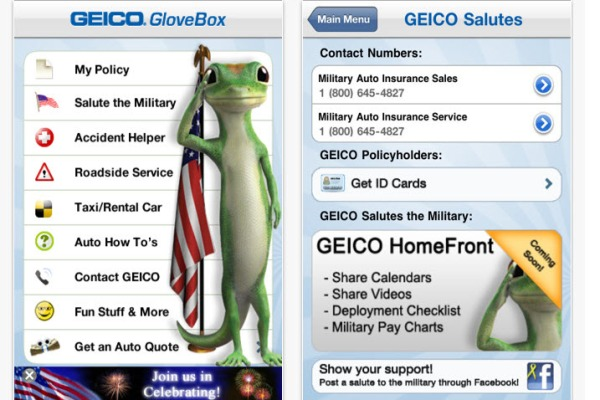Geico: (71, 8, 150, 28), (405, 10, 460, 28)
